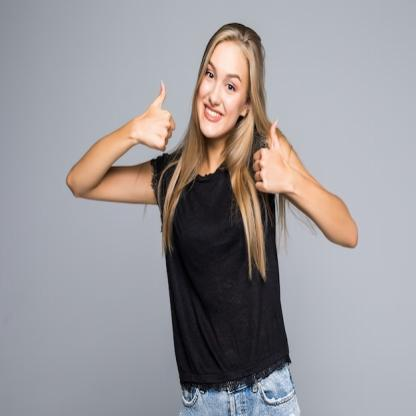thumb_up: (251, 117, 293, 203), (139, 78, 178, 154)
